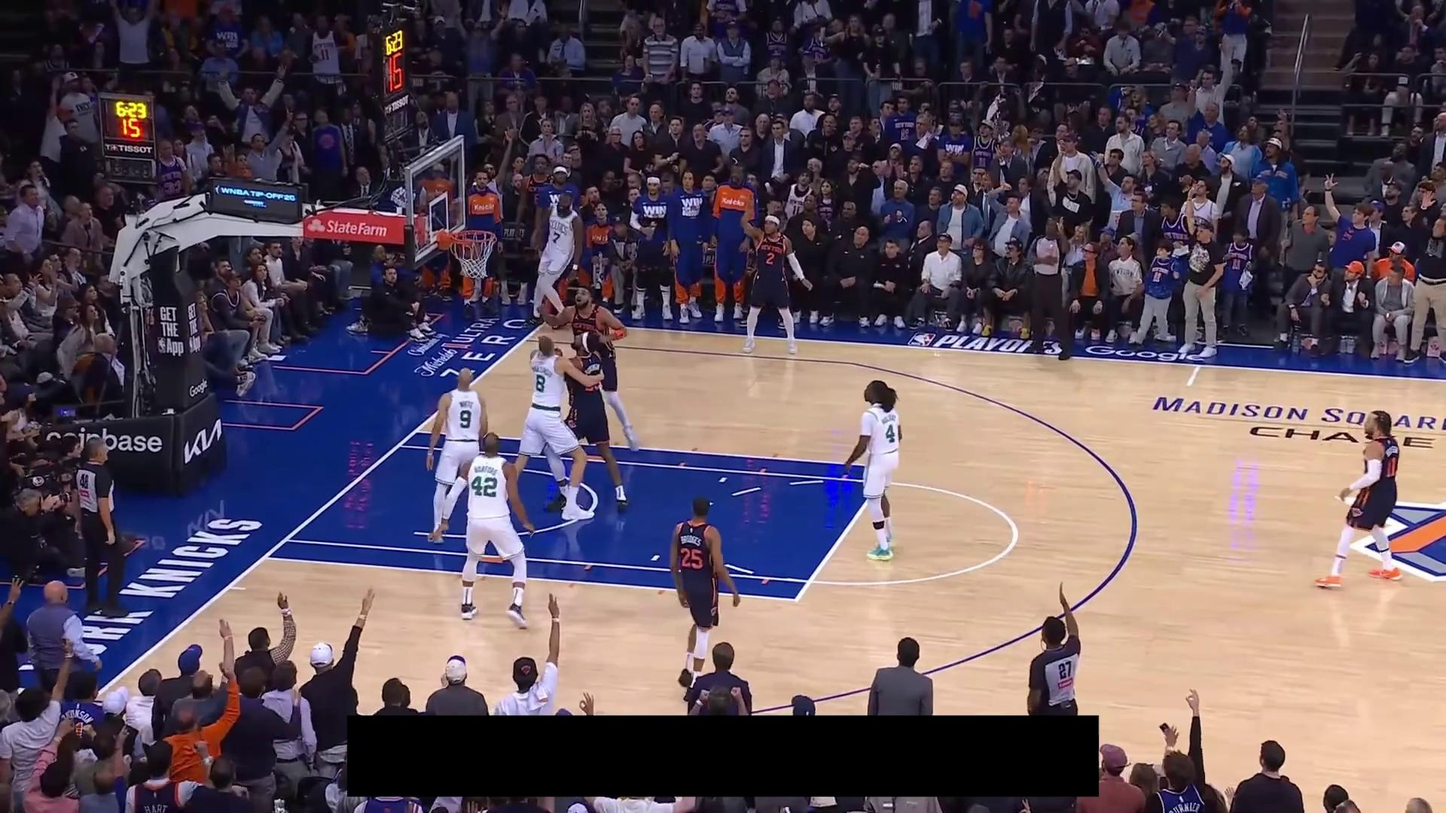ball: (460, 240, 481, 261)
ball-in-basket: (449, 227, 498, 282)
number: (471, 475, 499, 498), (680, 547, 703, 570), (458, 410, 473, 430), (1386, 455, 1398, 479), (885, 423, 897, 443), (535, 373, 546, 393), (766, 251, 775, 266), (551, 230, 560, 245)
player: (432, 430, 536, 630), (508, 332, 605, 520), (537, 285, 643, 454), (544, 331, 633, 519), (1314, 409, 1403, 590), (668, 495, 741, 690), (423, 364, 492, 544), (736, 206, 813, 355), (841, 379, 904, 561), (526, 188, 584, 328)
referee: (69, 438, 132, 618), (1024, 213, 1078, 361), (1026, 578, 1083, 715)
rim: (451, 229, 498, 244)
